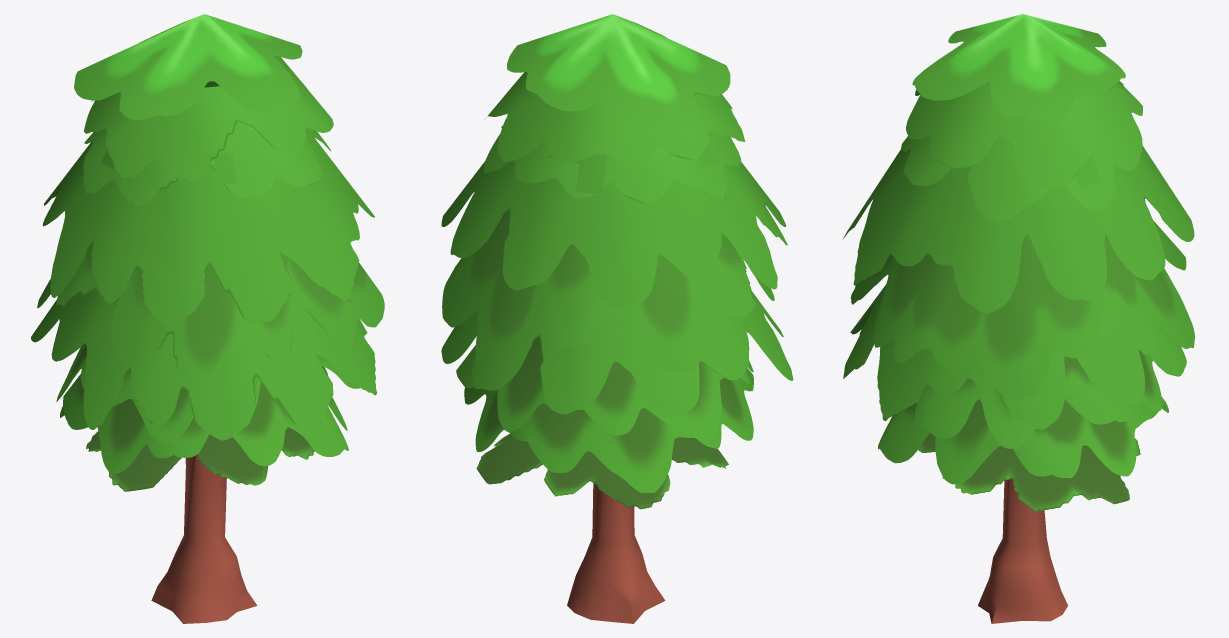
The model's file is bushtall.glb.
3 views of the same model, side by side, from view 1: azimuth 30°, elevation 25°; view 2: azimuth 150°, elevation 25°; view 3: azimuth 270°, elevation 25° (orthographic).
Parts seen in each view (by area): view 1: bushtop, bushstem; view 2: bushtop, bushstem; view 3: bushtop, bushstem.
Boxes of the visible parts, x1,y1,x2,y2 form: bushtop: (31, 14, 384, 491); bushstem: (151, 454, 257, 623); bushtop: (441, 14, 793, 509); bushstem: (567, 483, 665, 623); bushtop: (843, 14, 1195, 511); bushstem: (978, 479, 1067, 623).
Size of the model in its own units: 2 by 3.41 by 2.
2 materials, 2 textured.
